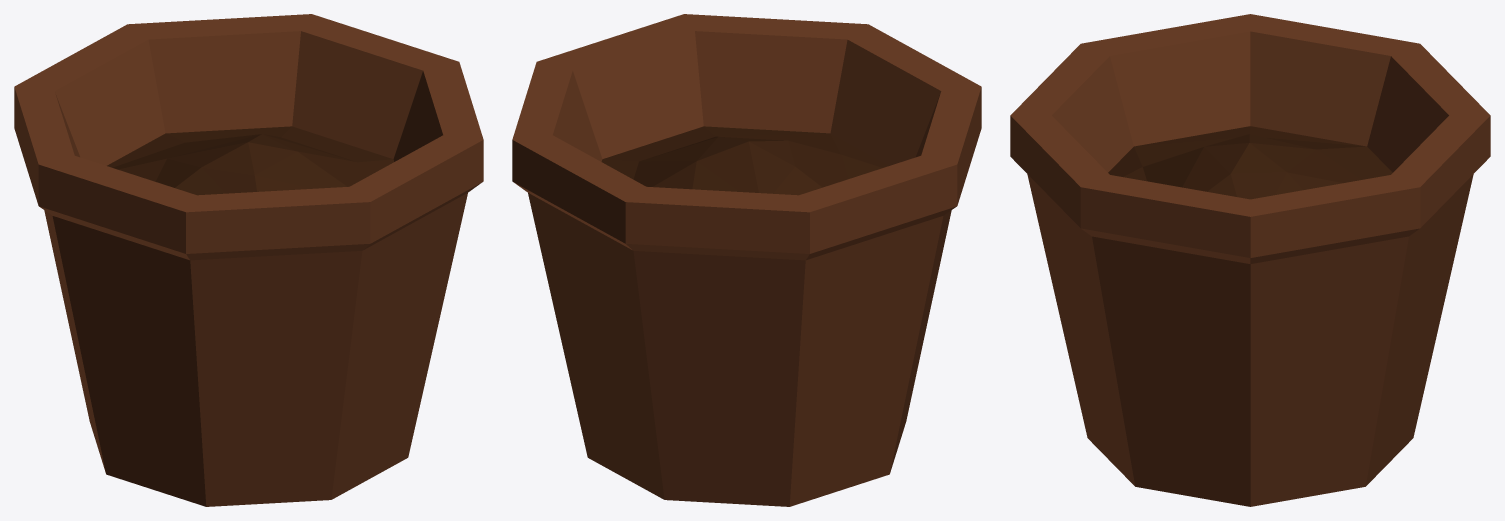
File: PlantPot2.glb
The picture shows the model from 3 angles, left to right: view 1: azimuth 30°, elevation 25°; view 2: azimuth 150°, elevation 25°; view 3: azimuth 270°, elevation 25°; orthographic projection.
Parts seen in each view (by area): view 1: PlantPot2; view 2: PlantPot2; view 3: PlantPot2.
Part boxes in pixels (x1,y1,x2,y2): PlantPot2: (14, 14, 483, 506); PlantPot2: (512, 14, 981, 506); PlantPot2: (1010, 14, 1490, 506).
Size of the model in its own units: 0.6577 by 0.4877 by 0.6577.
